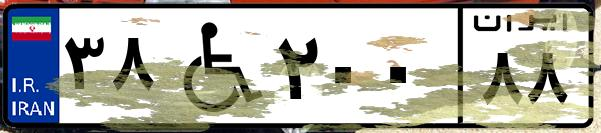0: (385, 28, 445, 110), (330, 28, 385, 110)
2: (270, 28, 330, 110)
3: (57, 26, 110, 100)
8: (475, 38, 525, 113), (525, 38, 570, 115), (110, 28, 158, 98)
ژ (معلولین و جانبازان): (158, 12, 270, 120)
